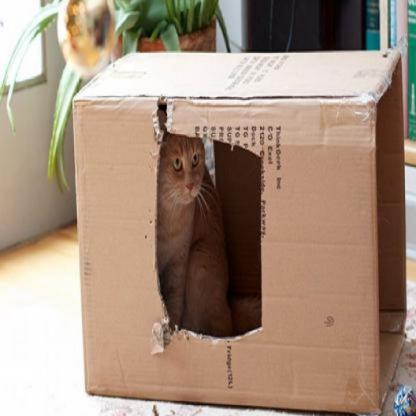-: (65, 36, 410, 416)
